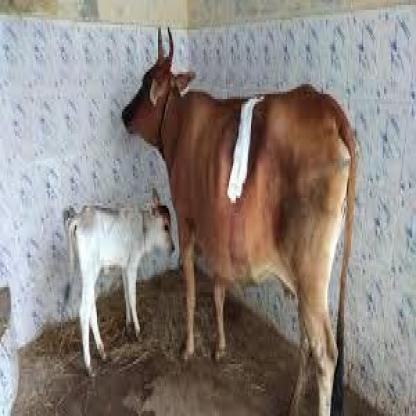cow: (121, 54, 356, 414), (67, 202, 176, 372)
